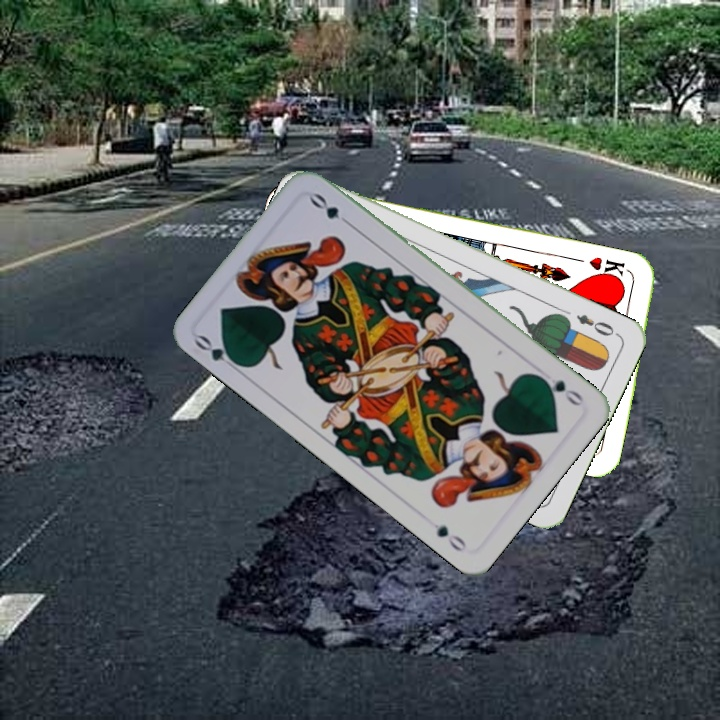EO: (572, 310, 622, 340)
GO: (190, 331, 245, 375), (534, 371, 586, 409)
HK: (585, 252, 628, 284)
